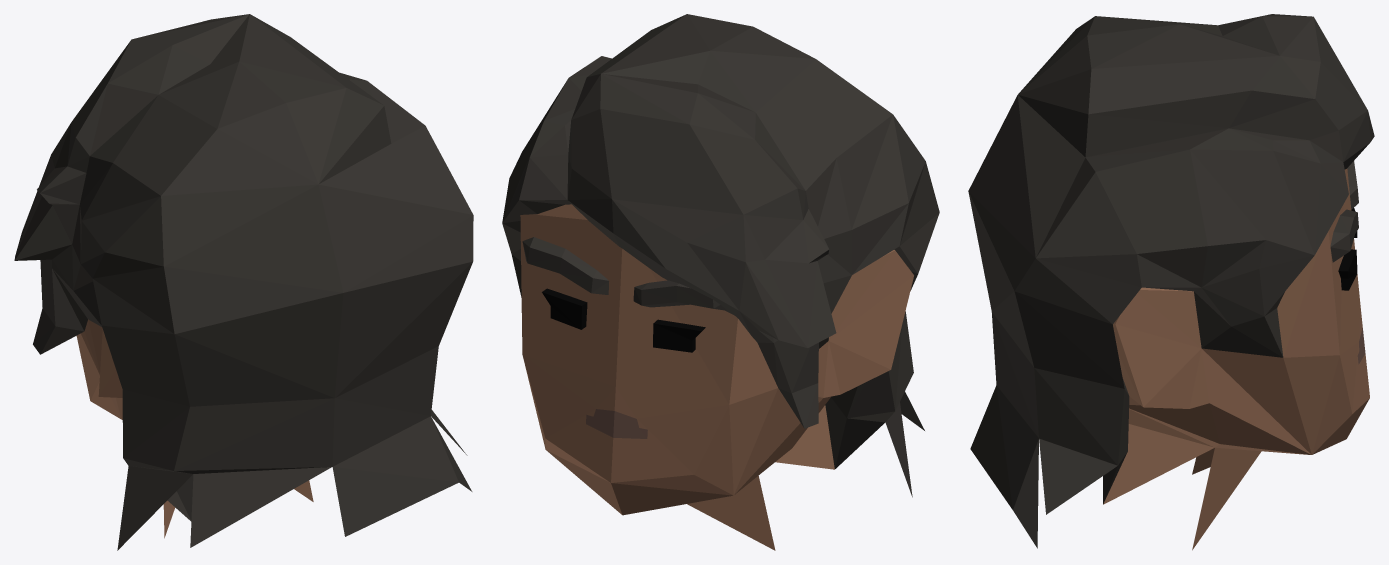
Rendered from Head.obj.
The picture shows the model from 3 angles, left to right: view 1: azimuth 30°, elevation 25°; view 2: azimuth 150°, elevation 25°; view 3: azimuth 270°, elevation 25°; orthographic projection. The views are drawn at different scales.
Size of the model in its own units: 0.2905 by 0.364 by 0.2759.
1 material, 1 textured.
